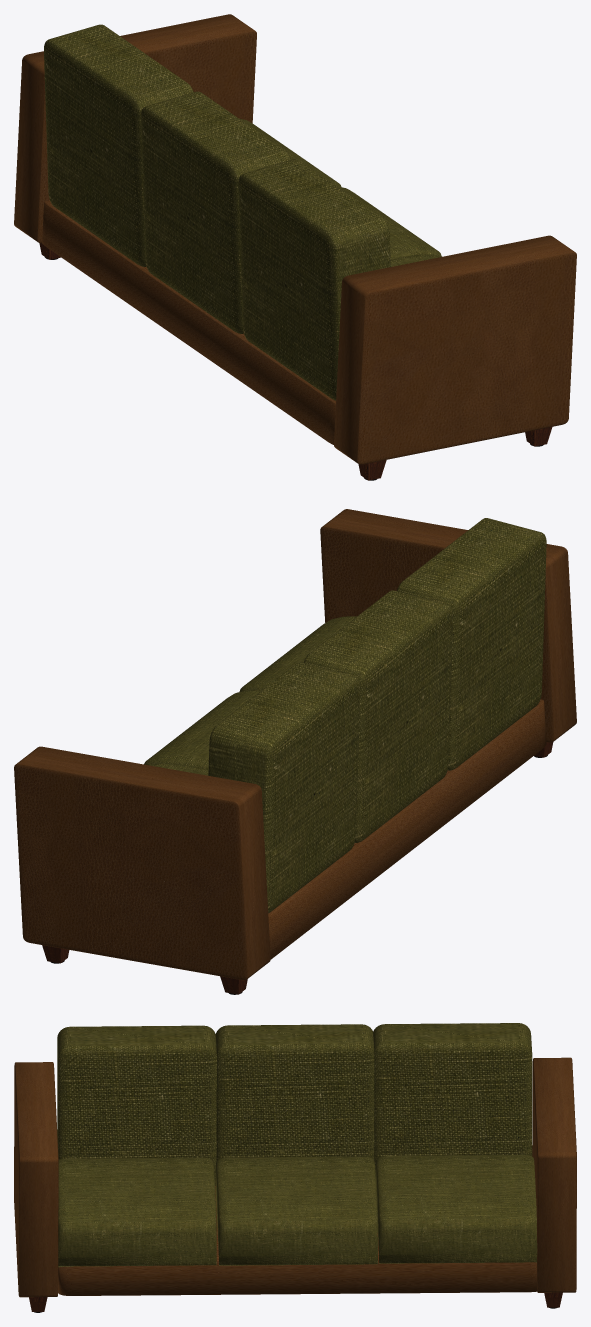
The model's file is sofa01.fbx.
3 renders of one model, top to bottom at view 1: azimuth 30°, elevation 25°; view 2: azimuth 150°, elevation 25°; view 3: azimuth 270°, elevation 25°, orthographic. The views are drawn at different scales.
Visible parts, largest first — view 1: Cube.005, Cube.014, Cube.013, Cube.012, Cube.007, Cube.008, Cube.006; view 2: Cube.008, Cube.012, Cube.014, Cube.013, Cube.005, Cube.007, Cube.006; view 3: Cube.006, Cube.014, Cube.013, Cube.012, Cube.007, Cube.005, Cube.008.
Boxes of the visible parts, bbox=[...] form: Cube.005: bbox=[334, 235, 576, 464]; Cube.014: bbox=[238, 159, 390, 400]; Cube.013: bbox=[140, 91, 290, 333]; Cube.012: bbox=[44, 24, 193, 266]; Cube.007: bbox=[42, 200, 335, 444]; Cube.008: bbox=[14, 14, 256, 243]; Cube.006: bbox=[239, 118, 441, 266]; Cube.008: bbox=[14, 746, 270, 980]; Cube.012: bbox=[208, 662, 360, 913]; Cube.014: bbox=[397, 518, 546, 770]; Cube.013: bbox=[303, 590, 453, 842]; Cube.005: bbox=[320, 509, 576, 742]; Cube.007: bbox=[268, 699, 546, 959]; Cube.006: bbox=[144, 616, 356, 775]; Cube.006: bbox=[58, 1154, 537, 1267]; Cube.014: bbox=[57, 1025, 216, 1185]; Cube.013: bbox=[215, 1024, 374, 1160]; Cube.012: bbox=[373, 1023, 532, 1176]; Cube.007: bbox=[58, 1186, 536, 1295]; Cube.005: bbox=[14, 1062, 58, 1297]; Cube.008: bbox=[532, 1057, 576, 1292].
Size of the model in its own units: 956 by 956 by 2343.
